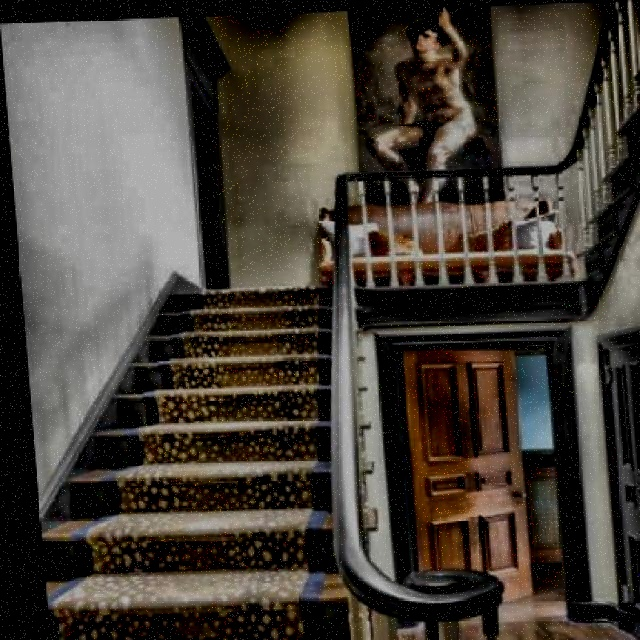stair: (19, 285, 363, 639)
